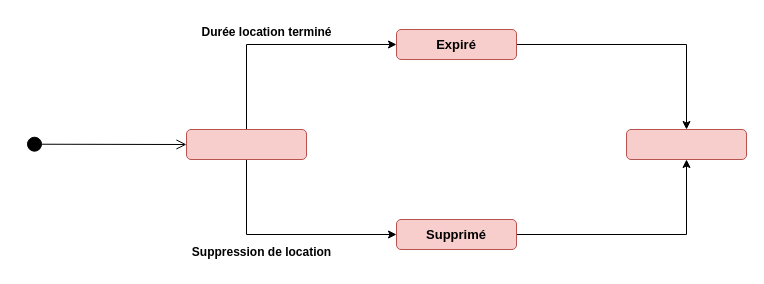
Image size: 764x284. Some labels were removed from this diagram. Here are the shapes that lost their labels. From the top down, the centre of each, then its label:
[246,144]: En cours
[686,144]: Arrchivé
